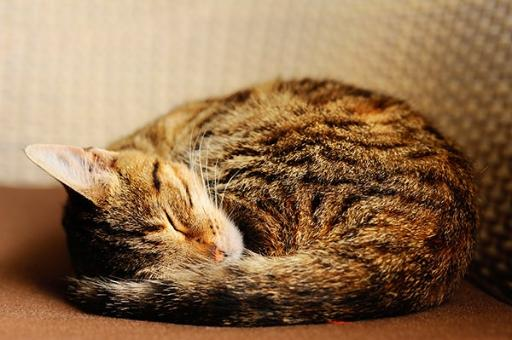cat_sleeping: (26, 80, 477, 326)
